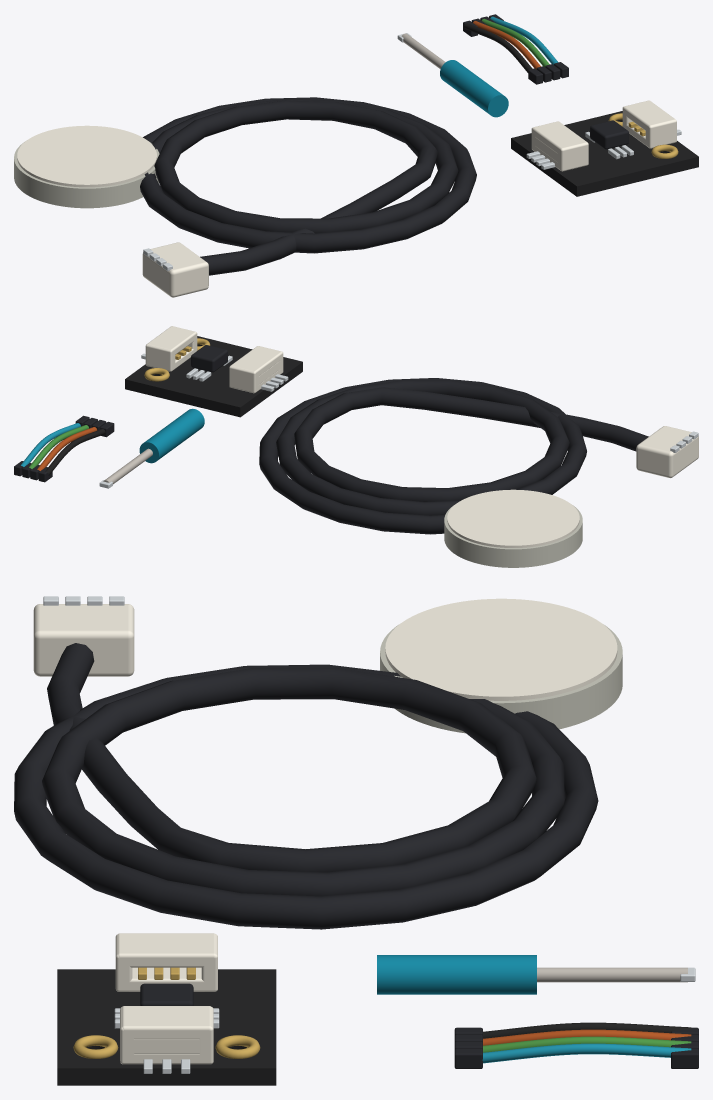
File: sensors-28.glb
The picture shows the model from 3 angles, top to bottom: view 1: azimuth 30°, elevation 25°; view 2: azimuth 150°, elevation 25°; view 3: azimuth 270°, elevation 25°; orthographic projection. The views are drawn at different scales.
Parts seen in each view (by area): view 1: cable, pad, board, jumpers, plug, input, tool, output; view 2: cable, pad, board, jumpers, plug, tool, input, output; view 3: cable, pad, board, tool, jumpers, plug, output, input.
Boxes of the visible parts, x1,y1,x2,y2 form: cable: [140, 97, 476, 275]; pad: [14, 125, 159, 208]; board: [511, 111, 698, 196]; jumpers: [463, 14, 568, 84]; plug: [142, 242, 208, 297]; input: [526, 121, 588, 171]; tool: [397, 33, 508, 117]; output: [622, 100, 681, 148]; cable: [259, 378, 648, 534]; pad: [444, 489, 582, 567]; board: [125, 336, 302, 417]; jumpers: [14, 415, 114, 482]; plug: [636, 426, 698, 478]; tool: [99, 408, 204, 488]; input: [229, 346, 288, 393]; output: [141, 326, 197, 371]; cable: [14, 643, 598, 929]; pad: [380, 598, 622, 733]; board: [57, 969, 276, 1085]; tool: [377, 955, 695, 994]; jumpers: [454, 1022, 698, 1068]; plug: [33, 596, 134, 676]; output: [120, 1006, 213, 1073]; input: [115, 933, 217, 991].
Size of the model in its own units: 3.56 by 0.2404 by 2.31.
